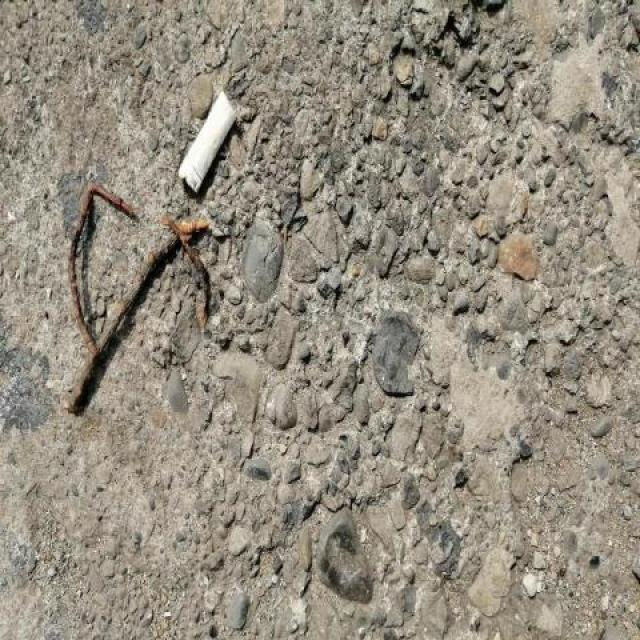non-organic waste: (174, 84, 239, 204)
